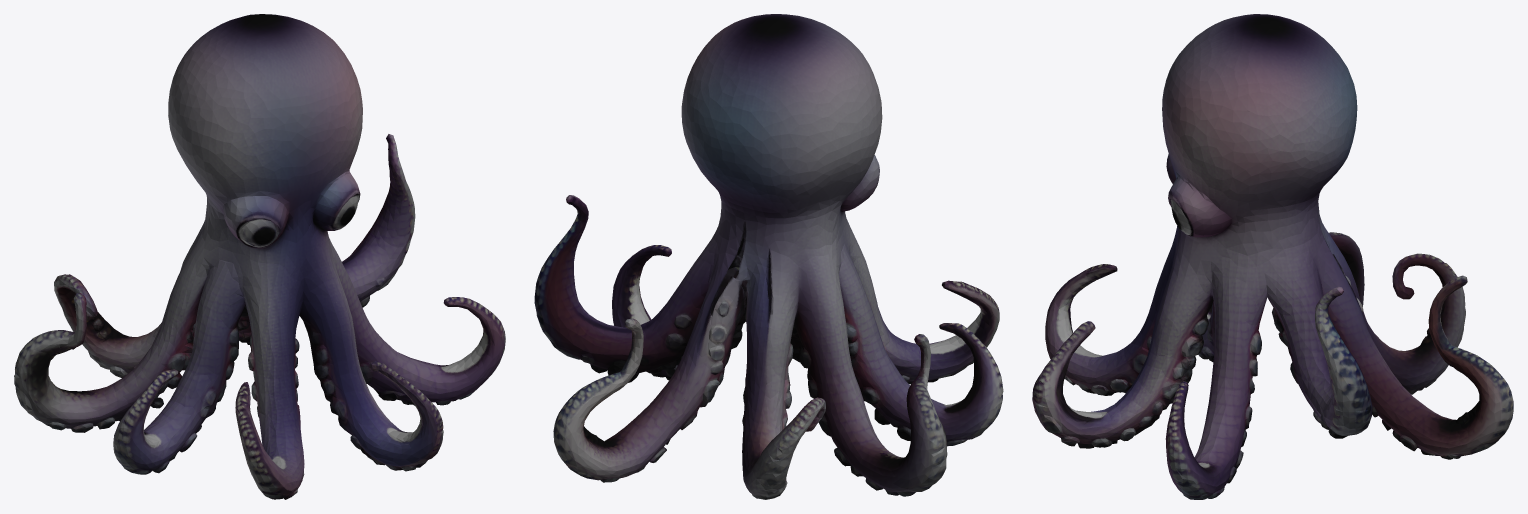
Rendered from octo.gltf.
3 renders of one model, left to right at view 1: azimuth 30°, elevation 25°; view 2: azimuth 150°, elevation 25°; view 3: azimuth 270°, elevation 25°, orthographic. The views are drawn at different scales.
Parts seen in each view (by area): view 1: octo; view 2: octo; view 3: octo.
Part boxes in pixels (x1,y1,x2,y2): octo: (14, 14, 505, 499); octo: (534, 14, 1003, 499); octo: (1032, 14, 1513, 499).
Size of the model in its own units: 0.9662 by 0.9143 by 0.9878.
